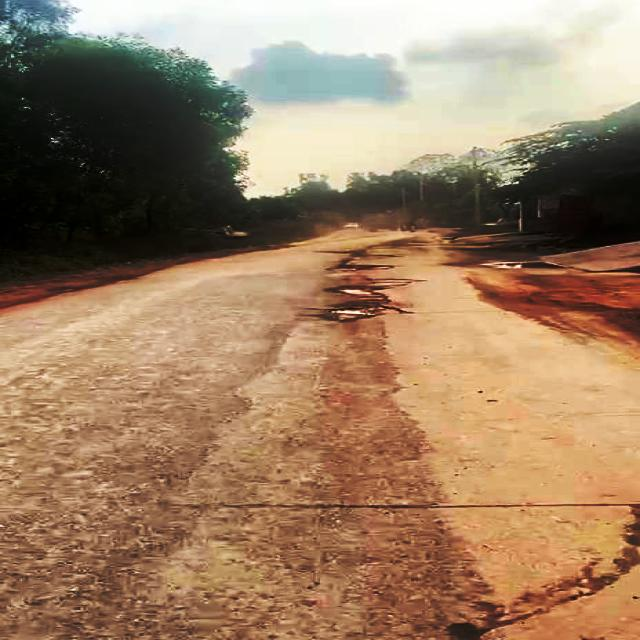pothole: (324, 304, 386, 325), (332, 283, 388, 297)
